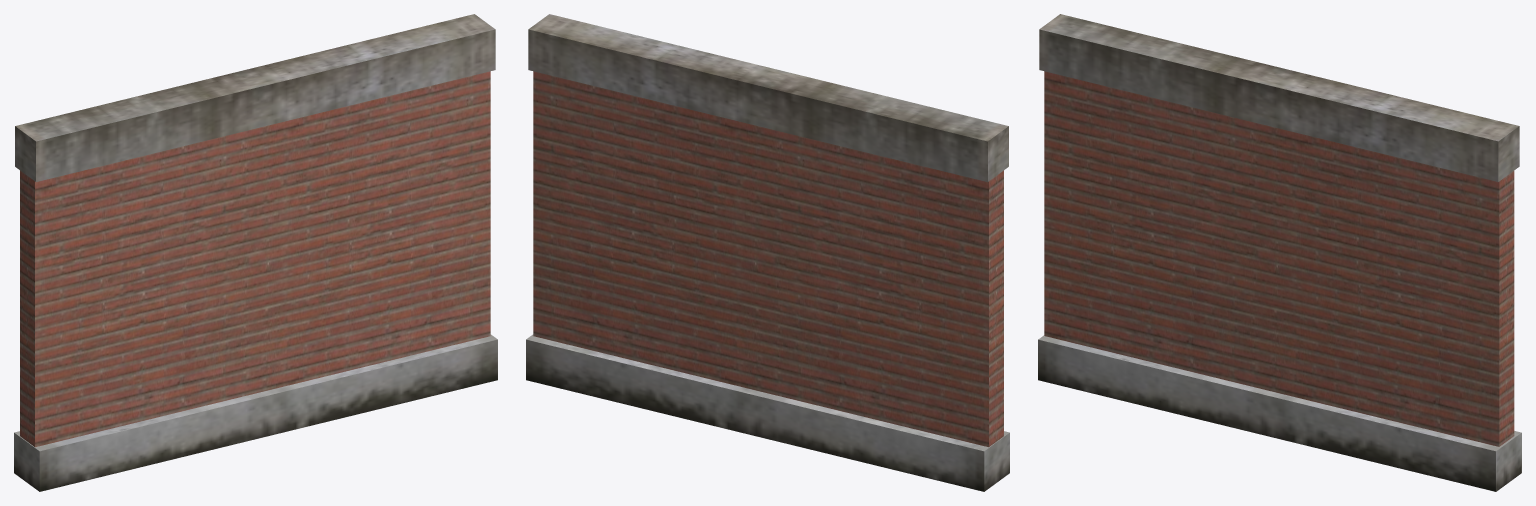
File: Wall2.glb
3 views of the same model, side by side, from view 1: azimuth 30°, elevation 25°; view 2: azimuth 150°, elevation 25°; view 3: azimuth 330°, elevation 25° (orthographic).
Parts seen in each view (by area): view 1: Wall_2; view 2: Wall_2; view 3: Wall_2.
Boxes of the visible parts, bbox=[...] form: Wall_2: bbox=[14, 14, 497, 491]; Wall_2: bbox=[526, 14, 1009, 491]; Wall_2: bbox=[1038, 14, 1521, 491].
Bounding box in the file's own units: 328 × 238 × 31.82.
Materials: 2 (2 with a texture image).
